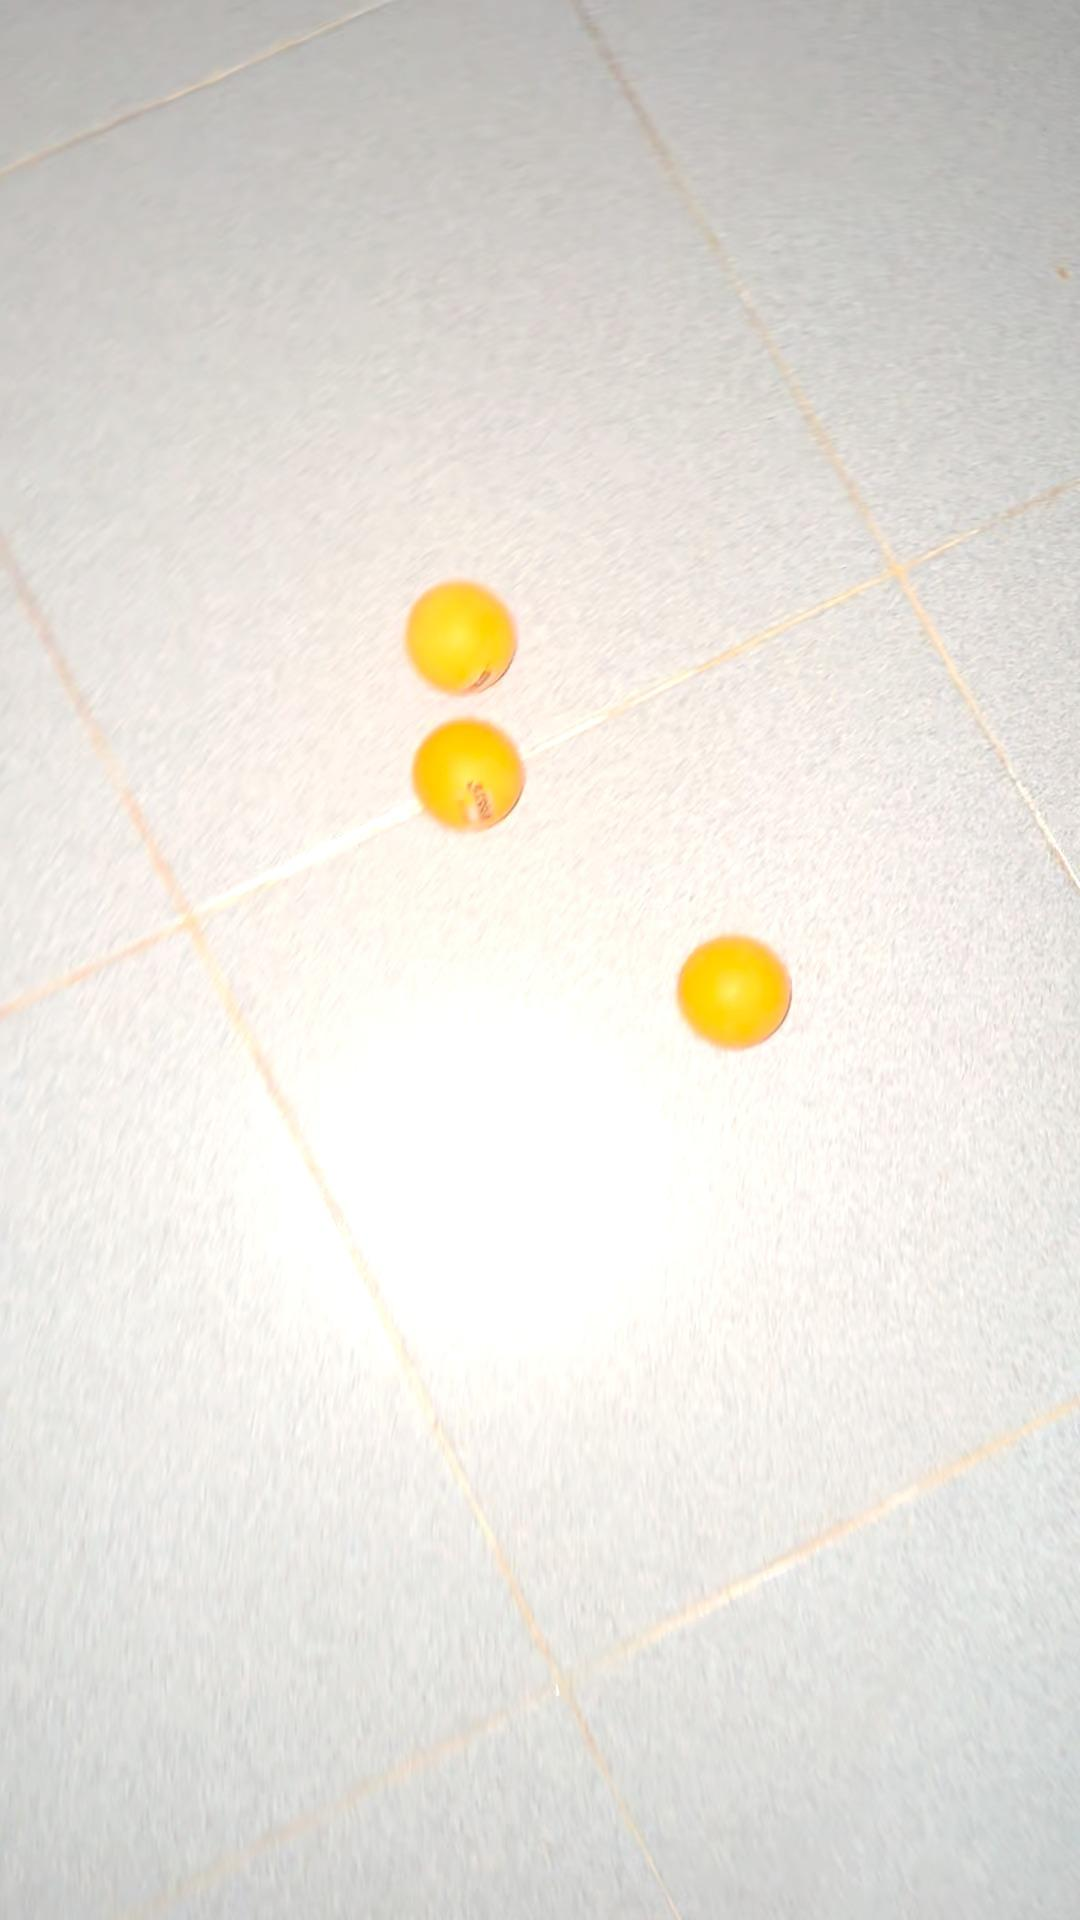oball: (394, 571, 537, 699), (414, 717, 542, 848), (682, 928, 798, 1059)
